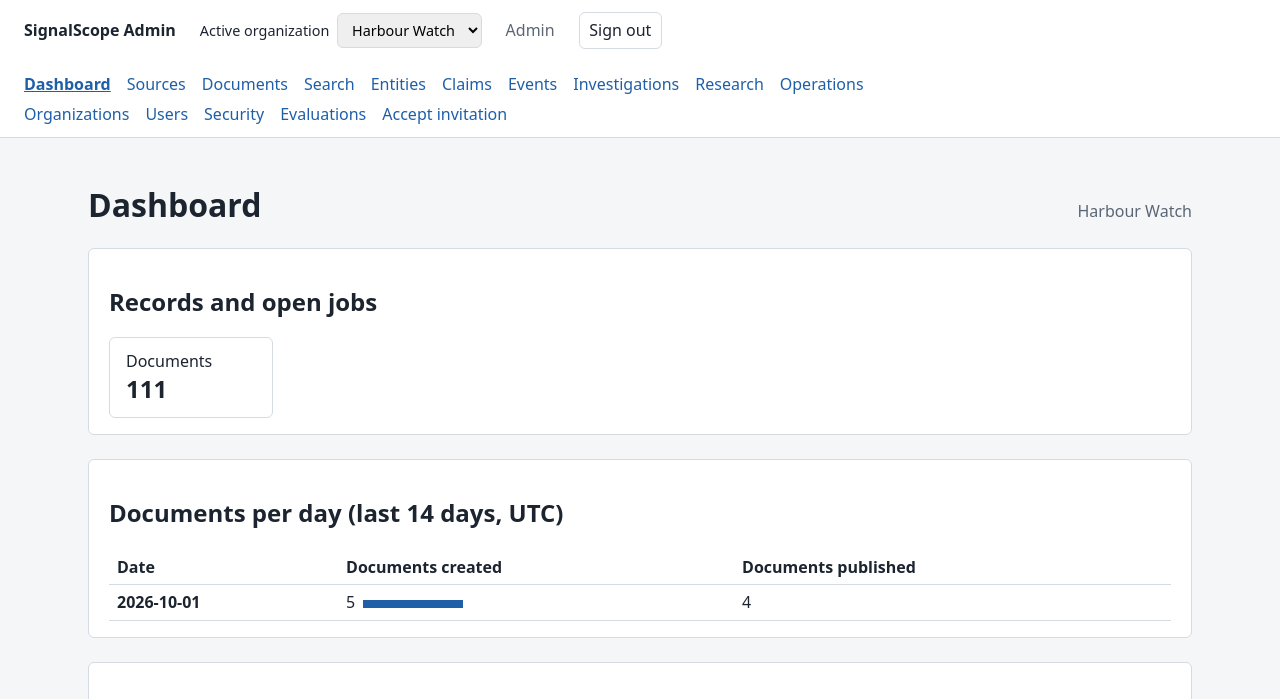
Test: dashboard › switches organization without showing old numbers
Expected: the text "111" is shown, [126, 372, 167, 406]
Select "River Desk" in the dropdown labelled "Active organization" at (410, 30), box [337, 12, 482, 48]
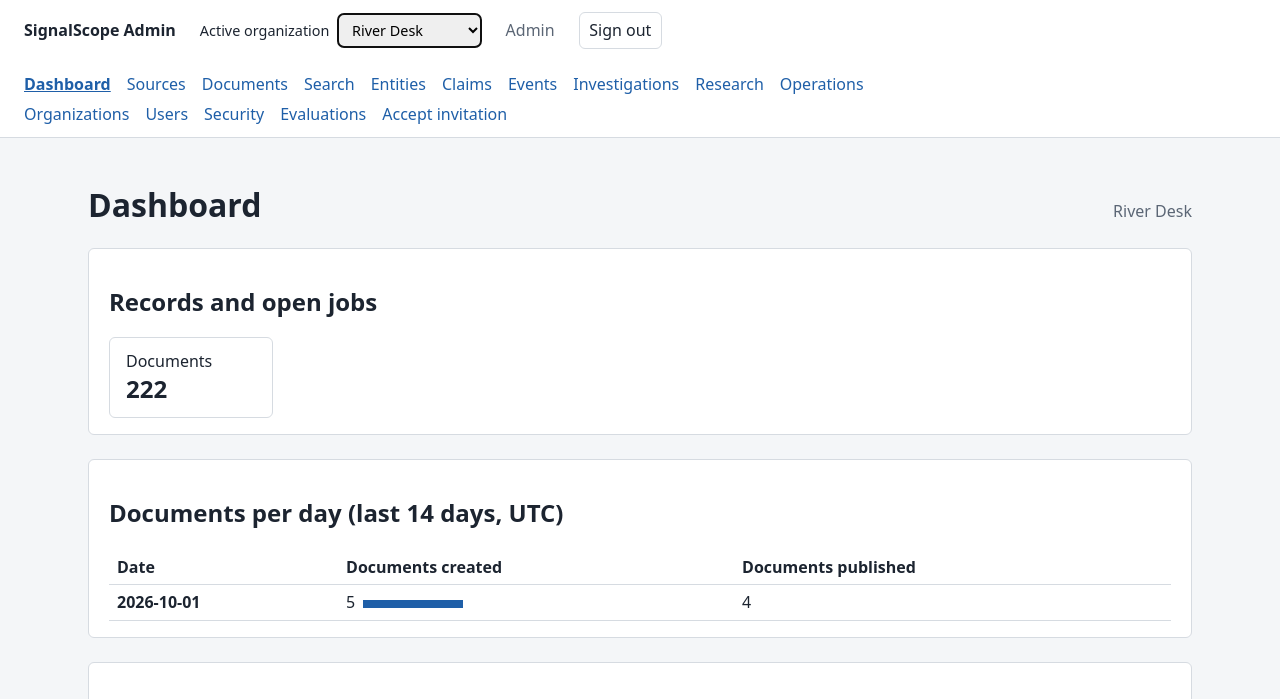
Now the text "222" is shown, box [126, 372, 167, 406]
Now the text "111" is gone
